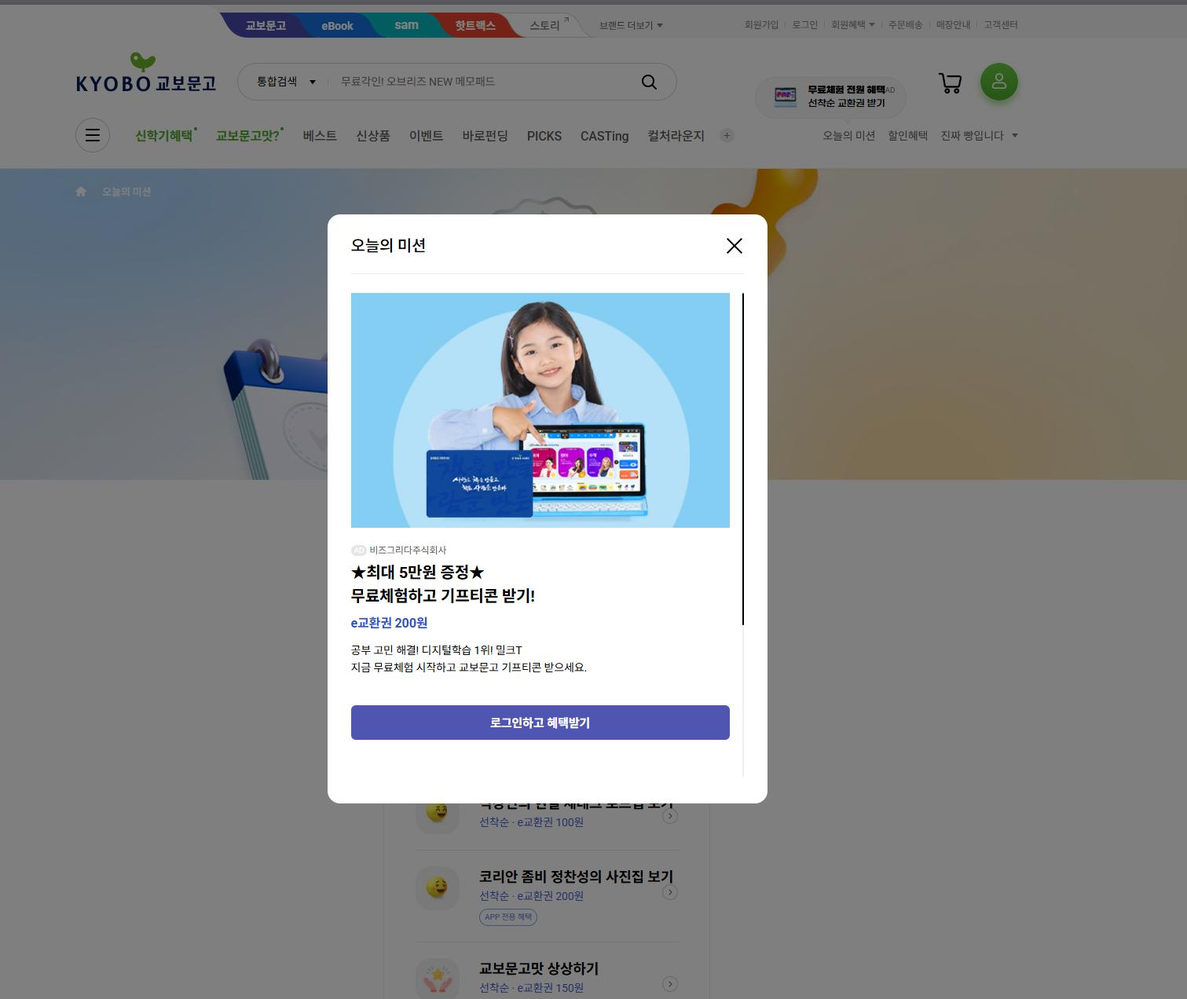button: (354, 707, 729, 740), (130, 114, 212, 153), (216, 110, 285, 152), (979, 64, 1037, 103), (376, 18, 439, 42), (512, 14, 576, 37), (234, 16, 295, 38), (744, 5, 783, 37), (453, 13, 499, 38), (357, 126, 398, 152), (594, 126, 636, 151), (462, 128, 513, 148), (983, 13, 1028, 33), (947, 68, 973, 102), (406, 128, 444, 148), (517, 131, 575, 144), (606, 24, 655, 39), (310, 24, 360, 38), (301, 132, 346, 147), (834, 22, 882, 35), (677, 137, 736, 147), (897, 21, 940, 34), (790, 17, 824, 33), (937, 21, 975, 35), (721, 240, 749, 249)
input_field: (241, 67, 680, 106)
popup: (327, 212, 766, 806)
